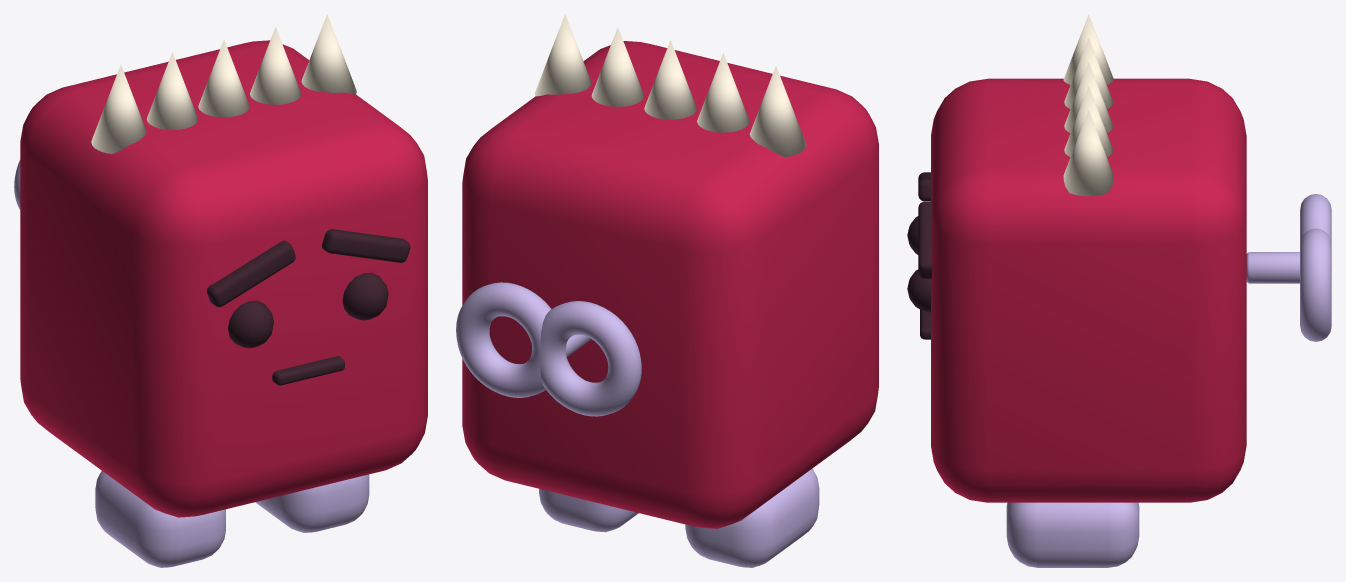
Rendered from enemy.glb.
The picture shows the model from 3 angles, left to right: view 1: azimuth 30°, elevation 25°; view 2: azimuth 150°, elevation 25°; view 3: azimuth 270°, elevation 25°; orthographic projection. The views are drawn at different scales.
Visible parts, largest first — view 1: enemy; view 2: enemy; view 3: enemy.
Part boxes in pixels (x1=…): enemy: x1=14, y1=14, x2=427, y2=567; enemy: x1=456, y1=14, x2=878, y2=567; enemy: x1=907, y1=14, x2=1331, y2=567.
Size of the model in its own units: 1 by 1.62 by 1.35.
